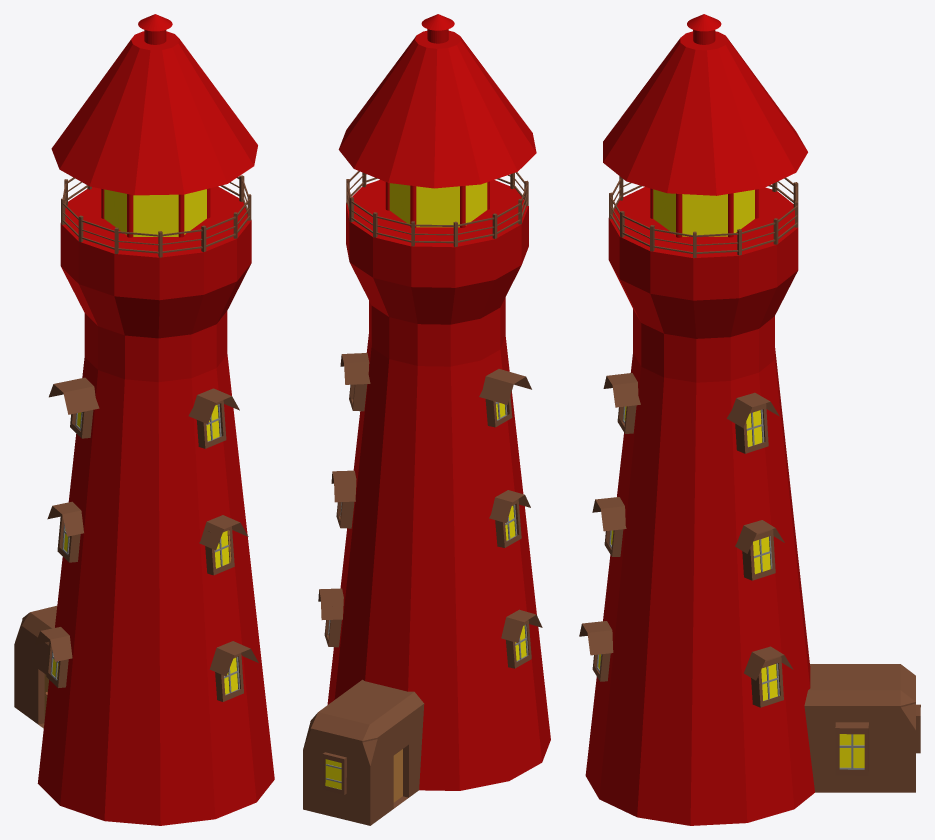
Rendered from Present_Light_House.glb.
3 views of the same model, side by side, from view 1: azimuth 30°, elevation 25°; view 2: azimuth 150°, elevation 25°; view 3: azimuth 270°, elevation 25° (orthographic). The views are drawn at different scales.
Parts seen in each view (by area): view 1: Cylinder.001, Cylinder, Cylinder.003, Cylinder.002, Cube.062, Cylinder.017, Cylinder.018, Cylinder.014, Cylinder.013, Cylinder.009, Cylinder.012, Cube.138 (+4 smaller); view 2: Cylinder.001, Cylinder, Cylinder.003, Cube.062, Cylinder.002, Cylinder.017, Cylinder.019, Cylinder.015, Cylinder.009, Cylinder.016, Cylinder.012, Cube.145 (+3 smaller); view 3: Cylinder.001, Cylinder, Cylinder.003, Cube.062, Cylinder.002, Cube.144, Cylinder.018, Cylinder.014, Cylinder.013, Cylinder.019, Cube.130, Cube.141 (+4 smaller).
Part boxes in pixels (left/top/right/bottom): Cylinder.001: left=37, top=354, right=274, bottom=825; Cylinder: left=60, top=186, right=251, bottom=382; Cylinder.003: left=51, top=31, right=257, bottom=195; Cylinder.002: left=104, top=189, right=206, bottom=236; Cube.062: left=14, top=605, right=57, bottom=728; Cylinder.017: left=49, top=377, right=99, bottom=414; Cylinder.018: left=188, top=388, right=239, bottom=424; Cylinder.014: left=209, top=641, right=258, bottom=676; Cylinder.013: left=199, top=515, right=248, bottom=550; Cylinder.009: left=35, top=627, right=72, bottom=661; Cylinder.012: left=47, top=501, right=83, bottom=536; Cube.138: left=196, top=400, right=226, bottom=448; Cylinder.001: left=327, top=334, right=550, bottom=790; Cylinder: left=346, top=179, right=528, bottom=366; Cylinder.003: left=338, top=30, right=536, bottom=188; Cube.062: left=303, top=679, right=424, bottom=825; Cylinder.002: left=389, top=182, right=487, bottom=227; Cylinder.017: left=479, top=369, right=531, bottom=404; Cylinder.019: left=340, top=353, right=370, bottom=384; Cylinder.015: left=318, top=588, right=343, bottom=619; Cylinder.009: left=501, top=609, right=542, bottom=642; Cylinder.016: left=331, top=470, right=356, bottom=502; Cylinder.012: left=489, top=490, right=530, bottom=523; Cube.145: left=322, top=752, right=346, bottom=794; Cylinder.001: left=585, top=348, right=814, bottom=825; Cylinder: left=608, top=187, right=798, bottom=382; Cylinder.003: left=603, top=31, right=807, bottom=195; Cube.062: left=804, top=664, right=915, bottom=792; Cylinder.002: left=653, top=189, right=754, bottom=236; Cube.144: left=835, top=722, right=868, bottom=775; Cylinder.018: left=603, top=373, right=640, bottom=407; Cylinder.014: left=579, top=621, right=613, bottom=655; Cylinder.013: left=592, top=497, right=626, bottom=531; Cylinder.019: left=727, top=392, right=779, bottom=427; Cube.130: left=839, top=734, right=864, bottom=767; Cube.141: left=751, top=656, right=783, bottom=707.
Bounding box in the file's own units: 6.51 × 22.76 × 9.26.
